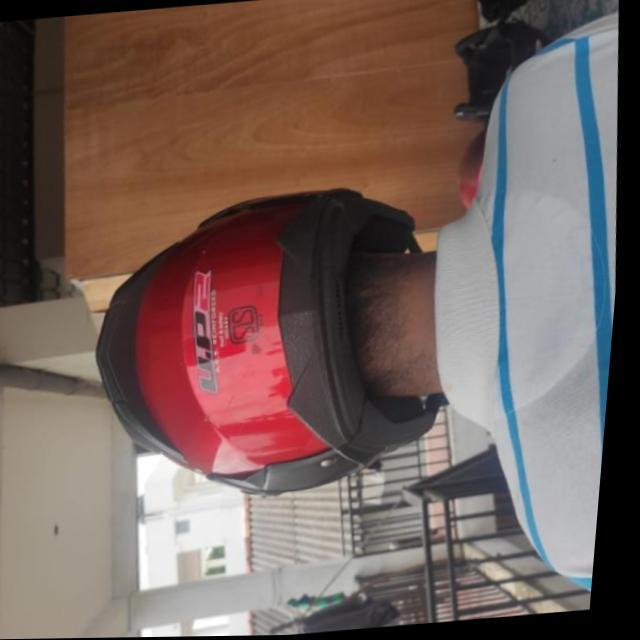with_helmet: (96, 189, 441, 498)
